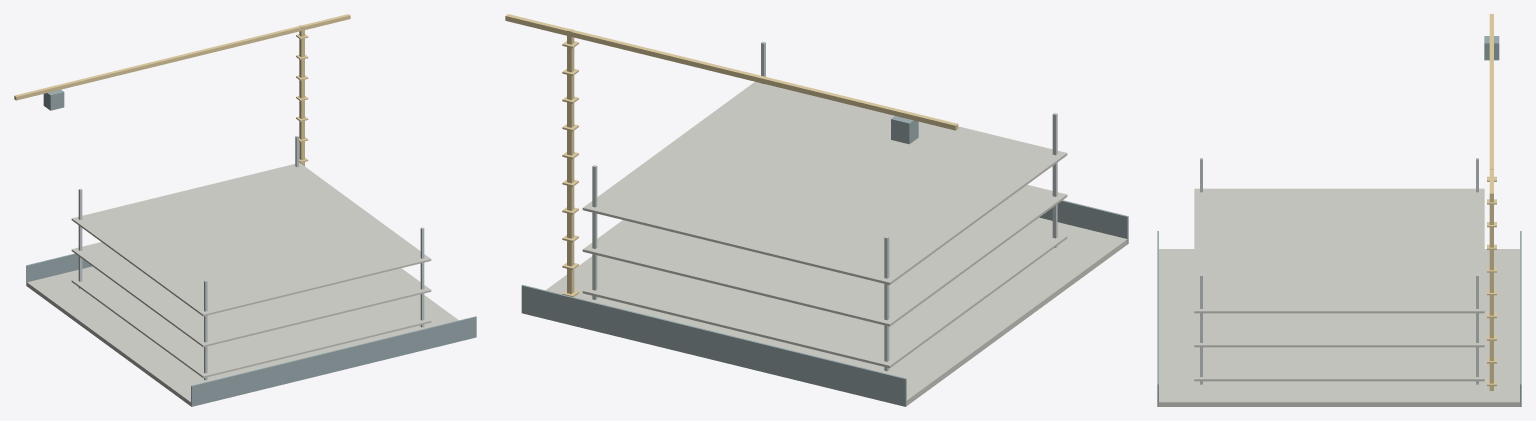
Rendered from remaster_site_3_2.glb.
3 views of the same model, side by side, from view 1: azimuth 30°, elevation 25°; view 2: azimuth 150°, elevation 25°; view 3: azimuth 270°, elevation 25° (orthographic). The views are drawn at different scales.
Visible parts, largest first — view 1: remaster_site_3_2 stone, remaster_site_3_2 roof, remaster_site_3_2 gold, remaster_site_3_2 metal; view 2: remaster_site_3_2 stone, remaster_site_3_2 roof, remaster_site_3_2 gold, remaster_site_3_2 metal; view 3: remaster_site_3_2 stone, remaster_site_3_2 gold, remaster_site_3_2 roof, remaster_site_3_2 metal.
Part boxes in pixels (x1=…): remaster_site_3_2 stone: x1=26, y1=162, x2=458, y2=405; remaster_site_3_2 roof: x1=26, y1=89, x2=476, y2=406; remaster_site_3_2 gold: x1=14, y1=14, x2=350, y2=166; remaster_site_3_2 metal: x1=78, y1=135, x2=424, y2=380; remaster_site_3_2 stone: x1=546, y1=81, x2=1127, y2=406; remaster_site_3_2 roof: x1=521, y1=116, x2=1128, y2=406; remaster_site_3_2 gold: x1=505, y1=14, x2=958, y2=297; remaster_site_3_2 metal: x1=592, y1=41, x2=1057, y2=371; remaster_site_3_2 stone: x1=1158, y1=188, x2=1520, y2=406; remaster_site_3_2 gold: x1=1487, y1=14, x2=1496, y2=390; remaster_site_3_2 roof: x1=1157, y1=36, x2=1521, y2=406; remaster_site_3_2 metal: x1=1200, y1=158, x2=1478, y2=384.
Bounding box in the file's own units: 34 × 20 × 29.14.
